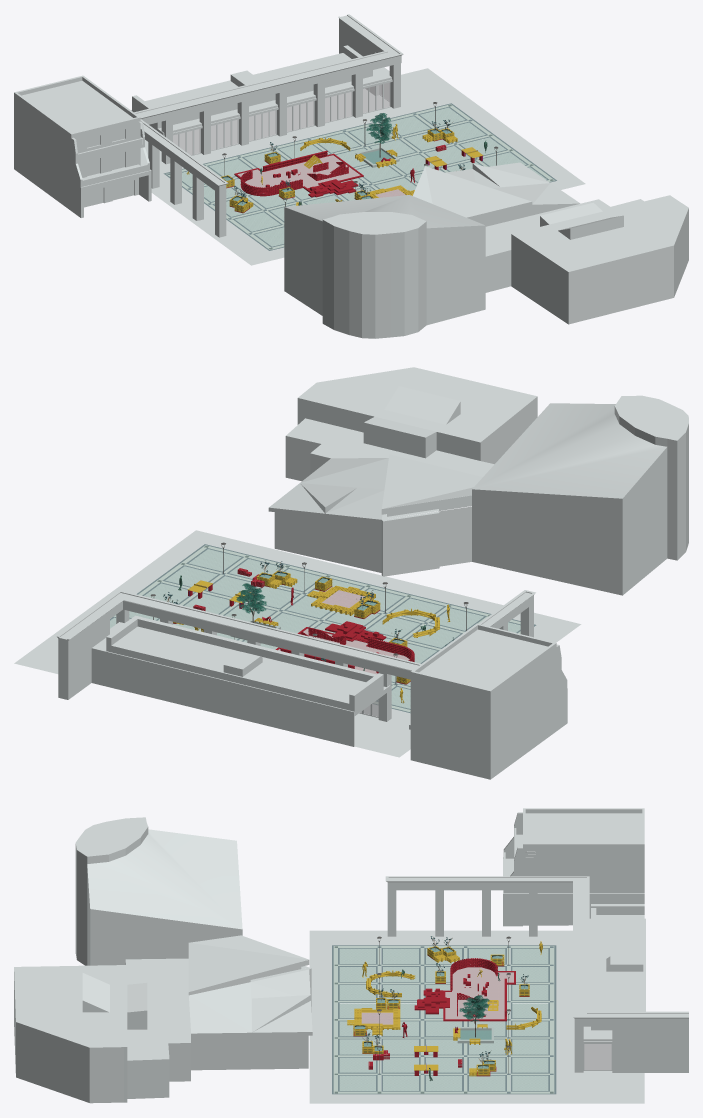
The model's file is websitemodel.glb.
3 views of the same model, one above another, from view 1: azimuth 30°, elevation 25°; view 2: azimuth 150°, elevation 25°; view 3: azimuth 270°, elevation 25° (orthographic). The views are drawn at different scales.
Parts seen in each view (by area): view 1: Shape Bender Component#1, square 1 component, object 9, object 1, object 2, skpD0CF; view 2: Shape Bender Component#1, square 1 component, object 1, object 2, skpD0CF; view 3: Shape Bender Component#1, square 1 component, object 1, object 2, object 9, object 4, skpD0CF.
Part boxes in pixels (x1,y1,x2,y2): Shape Bender Component#1: (14,14,688,338); square 1 component: (182,107,546,246); object 9: (173,82,389,155); object 1: (186,124,483,212); object 2: (237,155,405,197); skpD0CF: (366,113,393,157); Shape Bender Component#1: (14,367,688,779); square 1 component: (110,549,520,708); object 1: (173,570,450,703); object 2: (278,590,409,674); skpD0CF: (236,583,266,622); Shape Bender Component#1: (14,808,688,1103); square 1 component: (339,948,548,1090); object 1: (347,941,542,1076); object 2: (361,967,513,1024); object 9: (584,1044,611,1070); object 4: (354,948,528,1068); skpD0CF: (459,995,489,1037).
Size of the model in its own units: 57.3 by 14.04 by 76.41.
12 materials, 12 textured.
